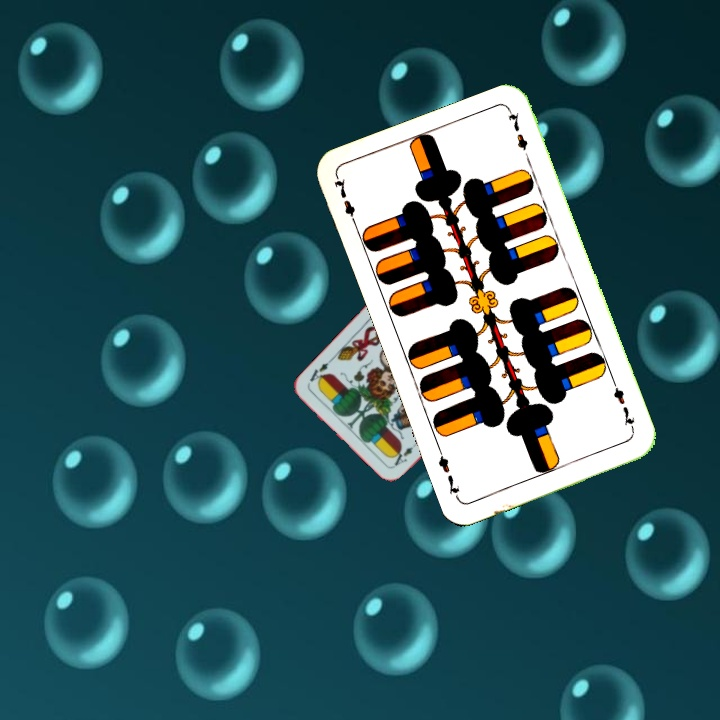E7: (330, 173, 360, 230), (609, 378, 638, 435)
EA: (390, 443, 416, 469)
